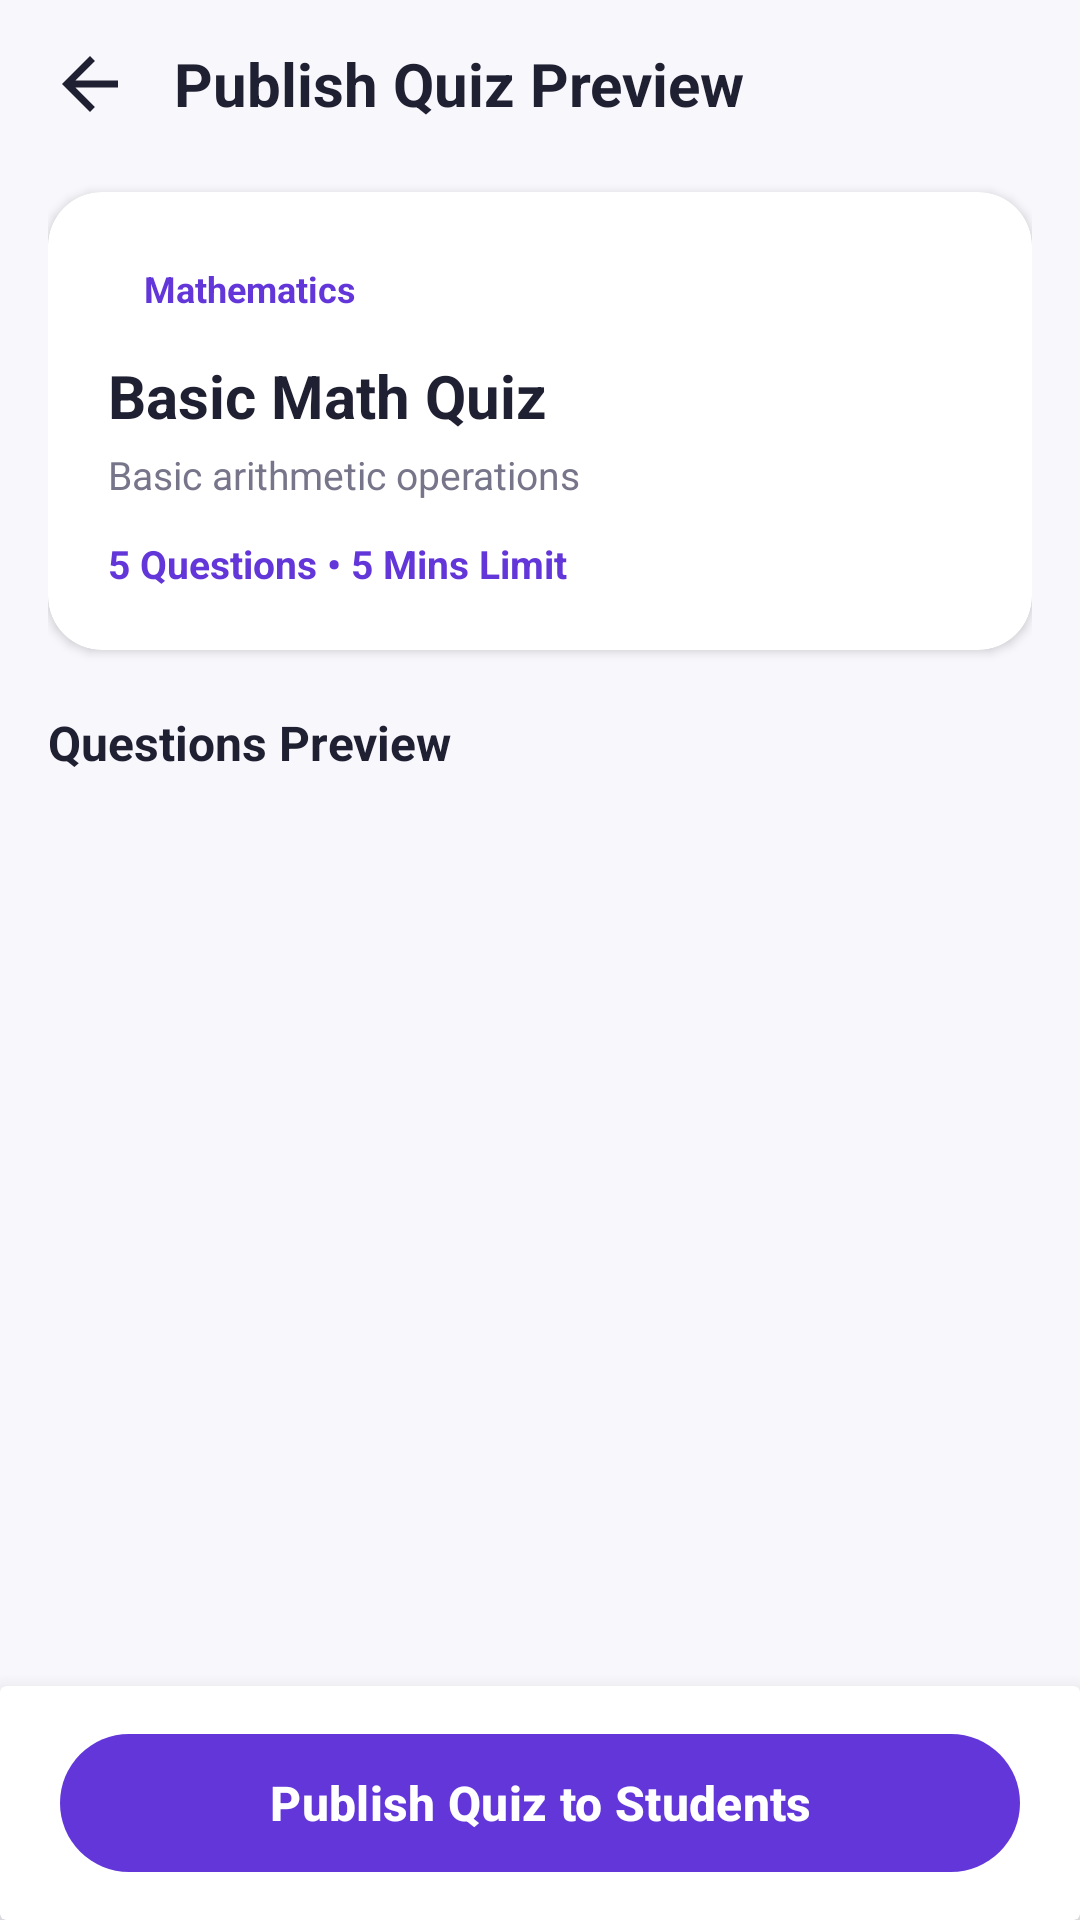

Screen size 1080px×1920px. Icon name, then its box in pixels as bbox(x1, y1, x2, y2):
Back: bbox(62, 56, 118, 112)
